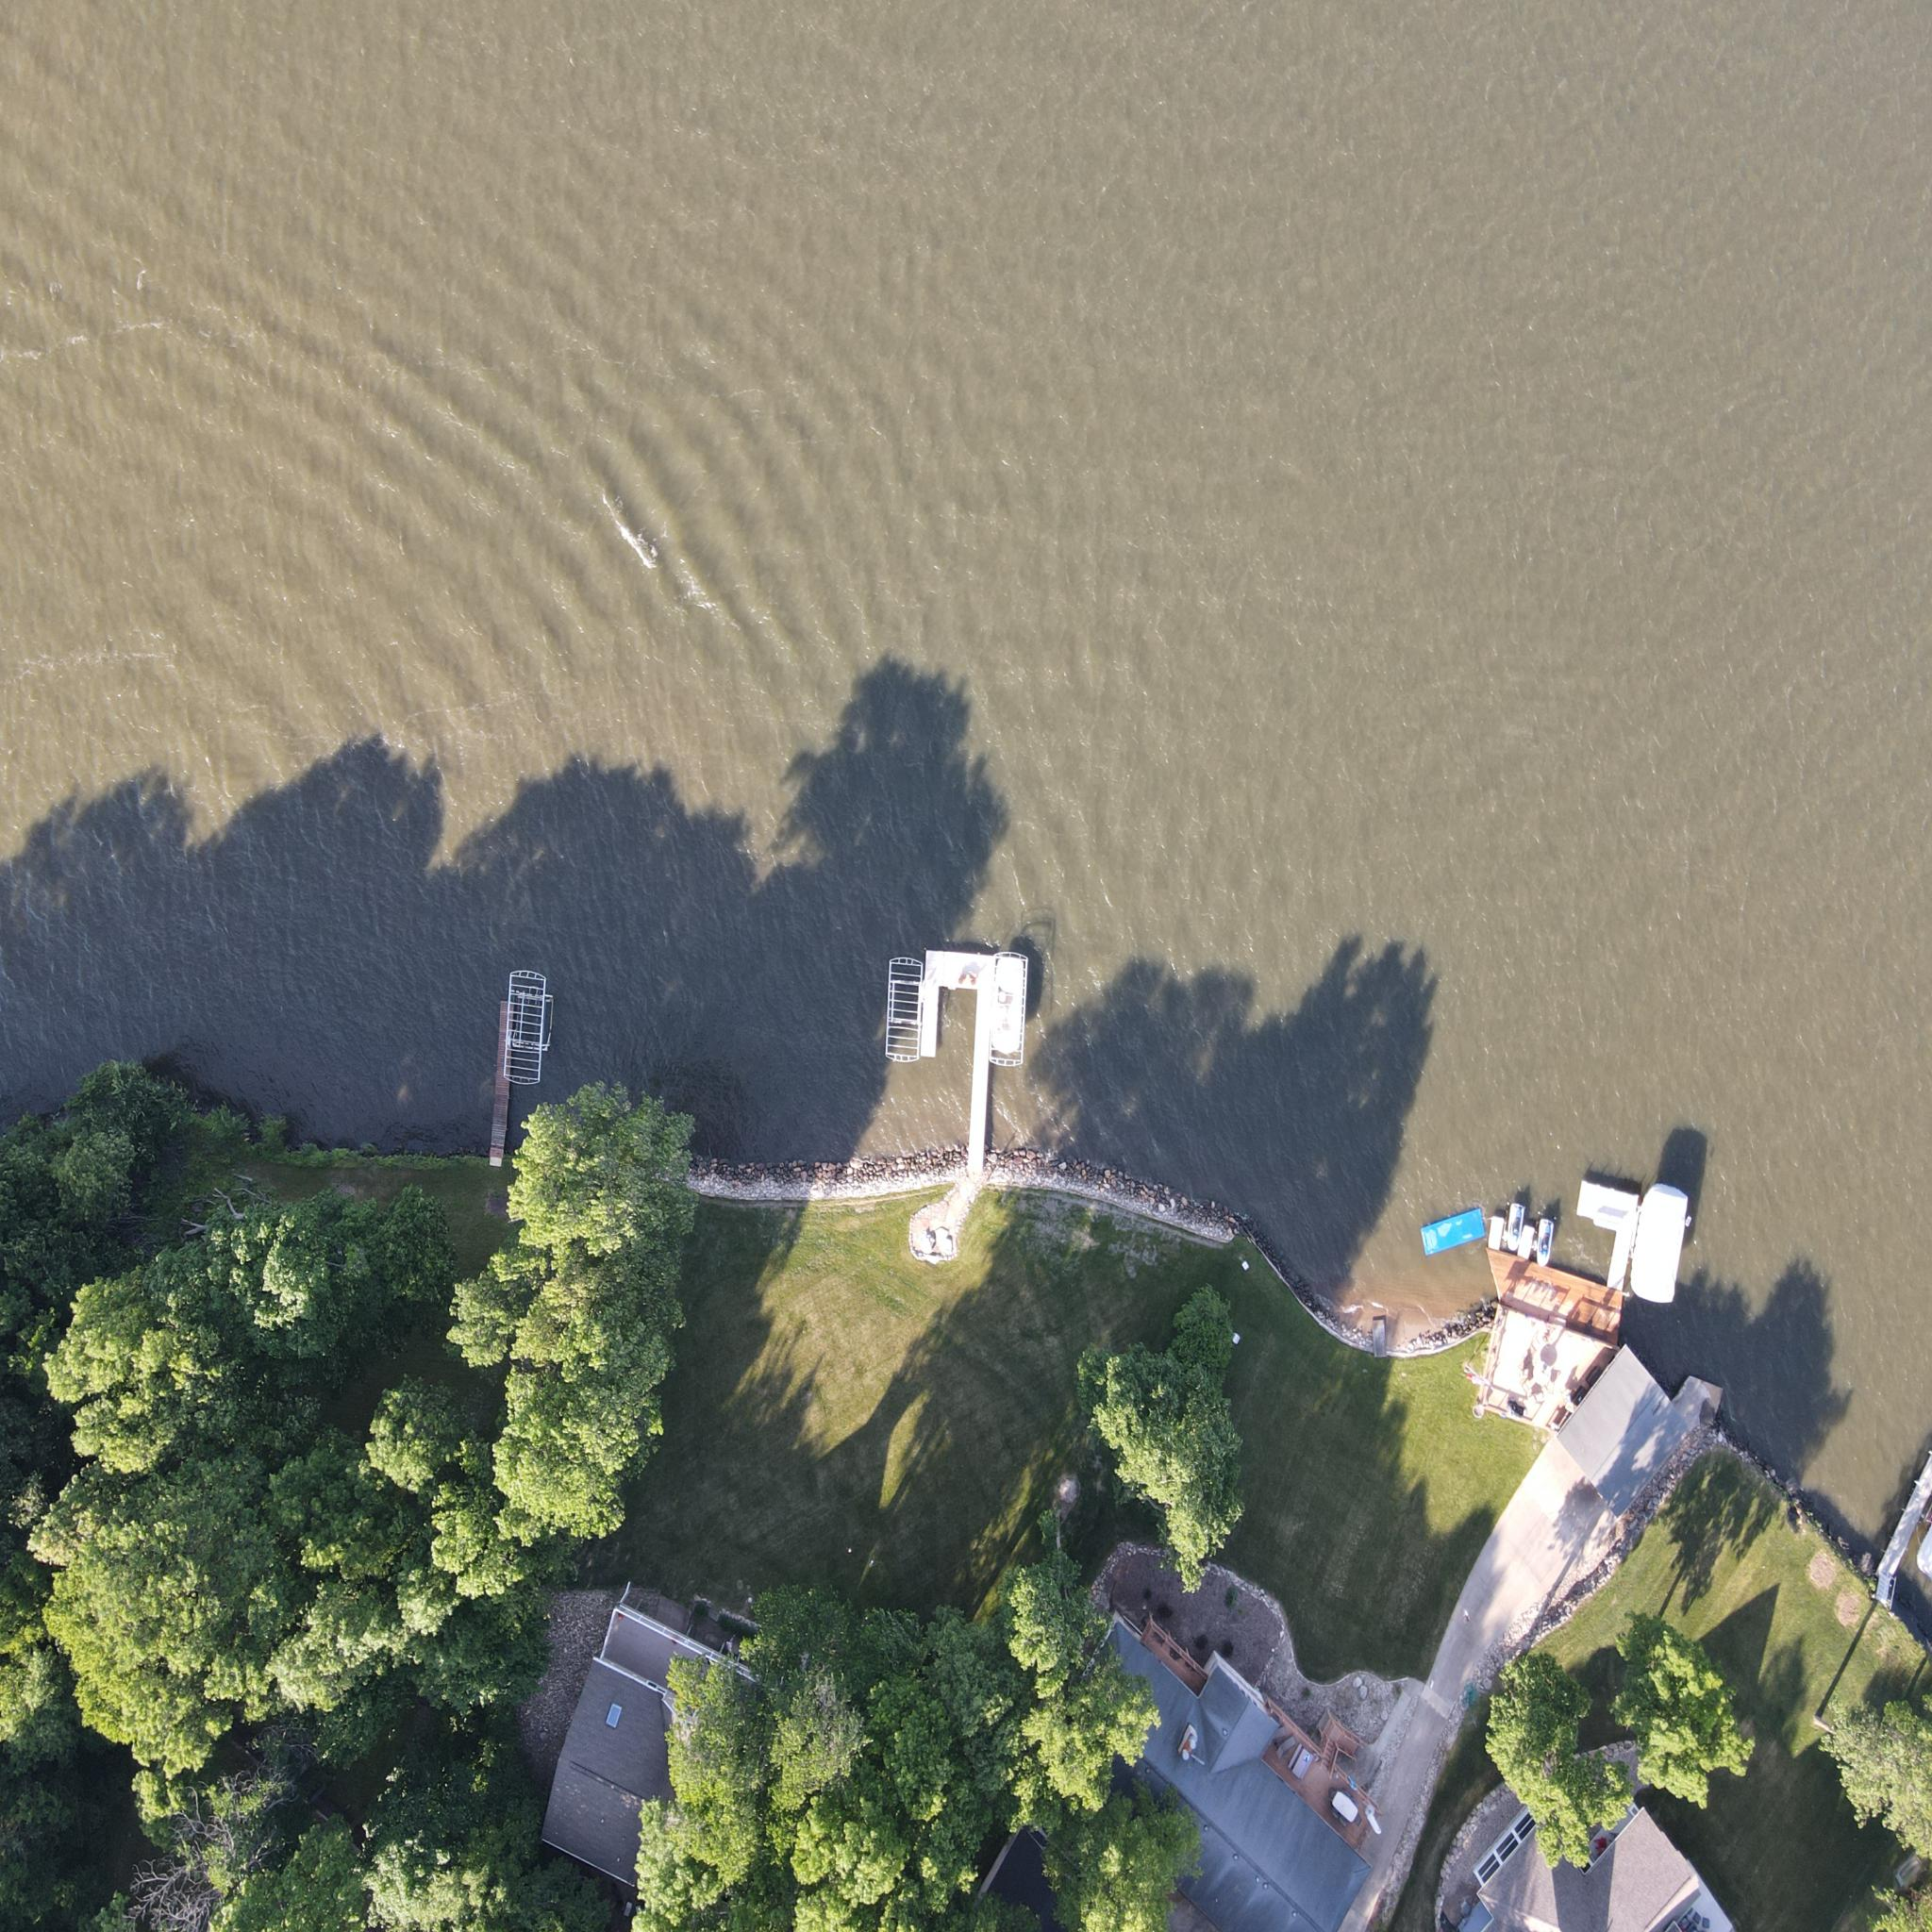dock: (913, 938, 1003, 1196), (1859, 1442, 1928, 1598), (1571, 1162, 1640, 1300), (483, 994, 518, 1180)
jetski: (1532, 1214, 1557, 1269), (1504, 1200, 1527, 1254)
lift: (1633, 1178, 1693, 1313), (499, 966, 556, 1093), (989, 947, 1035, 1076), (879, 945, 925, 1069)
